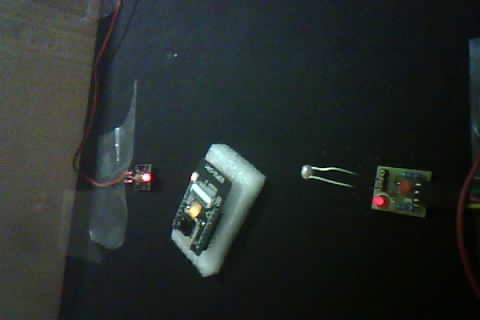esp32: (169, 140, 262, 270)
